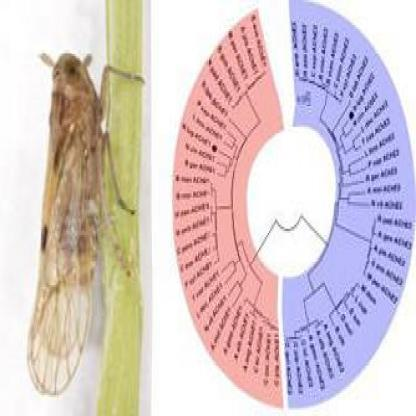brown-planthopper: (22, 43, 108, 391)
